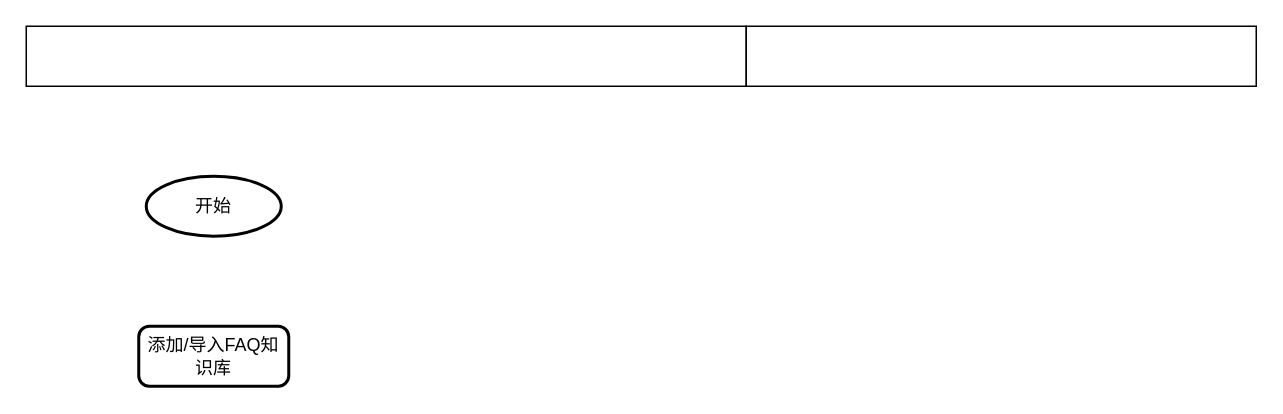
Image size: 1283x414. Some labels were removed from this diagram. The shapes that lost their labels are listed below. From the top down, each one's box as (x1, y1, x2, y2) in pixels, then its label:
(25, 25, 746, 86): DevOps云
(745, 25, 1256, 86): App
